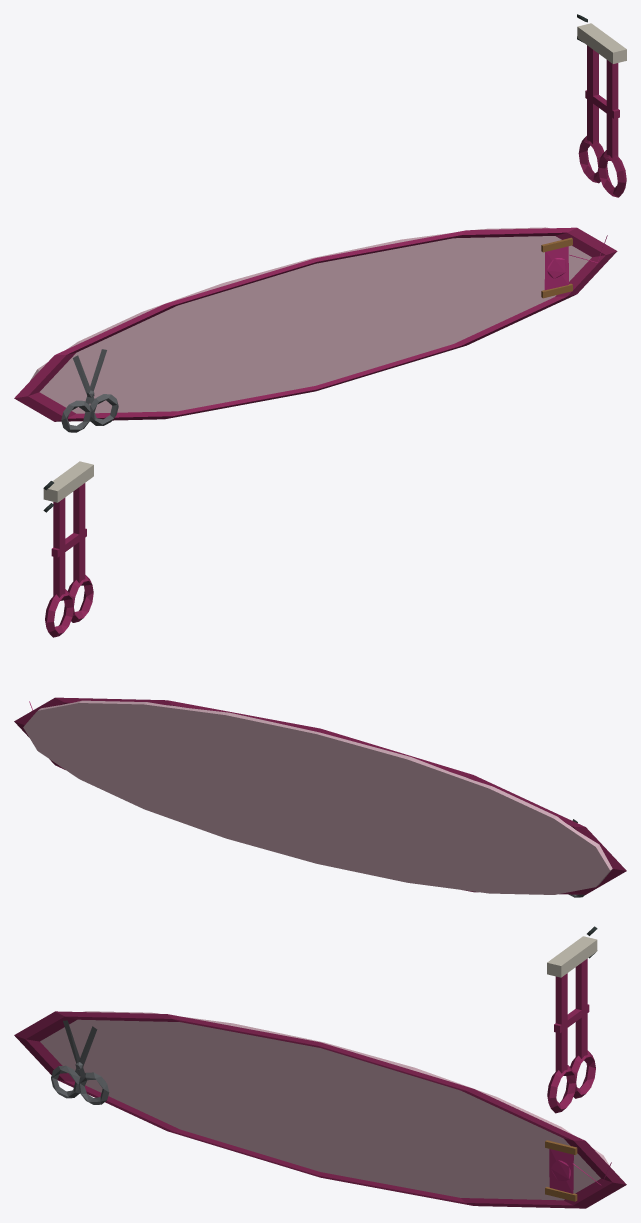
Rendered from bang_tiem_may_hong_nhung_60.glb.
3 views of the same model, one above another, from view 1: azimuth 30°, elevation 25°; view 2: azimuth 150°, elevation 25°; view 3: azimuth 330°, elevation 25° (orthographic).
Parts seen in each view (by area): view 1: bang_tiem_may_hong_nhung_60; view 2: bang_tiem_may_hong_nhung_60; view 3: bang_tiem_may_hong_nhung_60.
Boxes of the visible parts, bbox=[...] form: bang_tiem_may_hong_nhung_60: bbox=[14, 14, 626, 432]; bang_tiem_may_hong_nhung_60: bbox=[14, 461, 626, 897]; bang_tiem_may_hong_nhung_60: bbox=[14, 926, 626, 1208].
Size of the model in its own units: 6.06 by 2.96 by 0.805.
